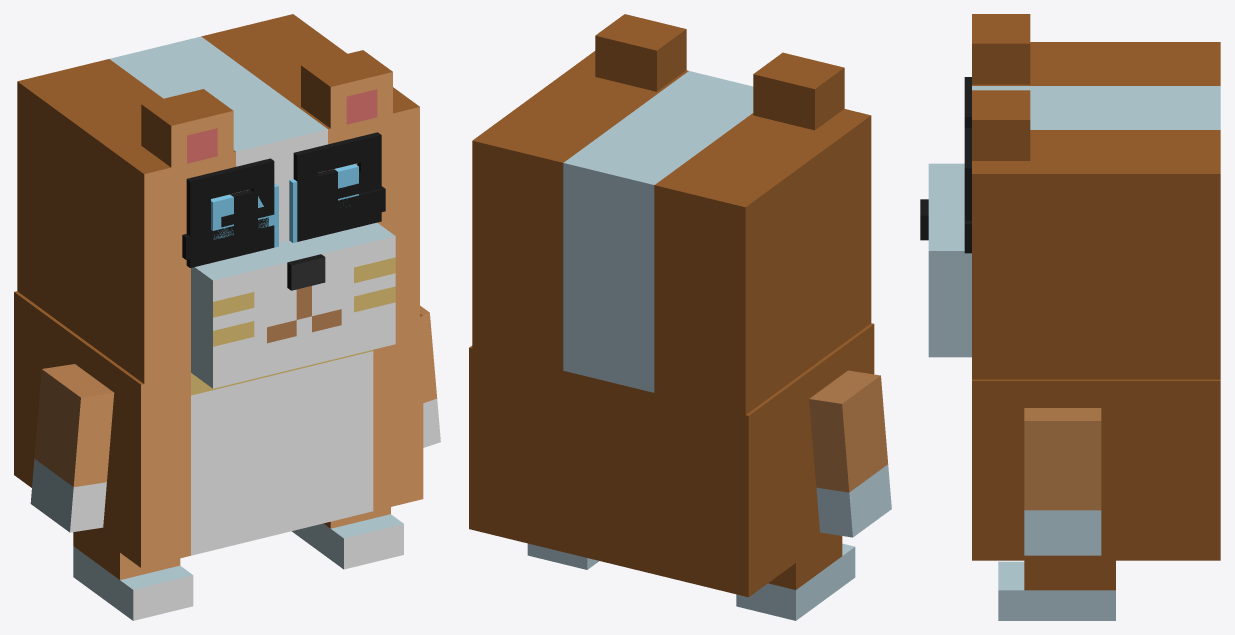
3 renders of one model, left to right at view 1: azimuth 30°, elevation 25°; view 2: azimuth 150°, elevation 25°; view 3: azimuth 270°, elevation 25°, orthographic. The views are drawn at different scales.
Visible parts, largest first — view 1: Ch_35_Head, Ch_35, Ch_35_Hand_L, Ch_35_Leg_L, Ch_35_Eye_03_L, Ch_35_Eye_03_R, Ch_35_Leg_R, Ch_35_Eye_01, Ch_35_Hand_R, Ch_35_Eye_02; view 2: Ch_35_Head, Ch_35, Ch_35_Hand_L, Ch_35_Leg_L, Ch_35_Leg_R; view 3: Ch_35_Head, Ch_35, Ch_35_Hand_R, Ch_35_Leg_R, Ch_35_Eye_03_R.
Part boxes in pixels (left/top/right/bottom): Ch_35_Head: left=17, top=14, right=419, bottom=388; Ch_35: left=14, top=291, right=423, bottom=567; Ch_35_Hand_L: left=30, top=364, right=114, bottom=532; Ch_35_Leg_L: left=73, top=530, right=193, bottom=620; Ch_35_Eye_03_L: left=186, top=158, right=274, bottom=267; Ch_35_Eye_03_R: left=293, top=132, right=381, bottom=241; Ch_35_Leg_R: left=292, top=507, right=403, bottom=569; Ch_35_Eye_01: left=211, top=164, right=358, bottom=247; Ch_35_Hand_R: left=420, top=305, right=440, bottom=447; Ch_35_Eye_02: left=182, top=186, right=385, bottom=259; Ch_35_Head: left=472, top=14, right=871, bottom=414; Ch_35: left=469, top=323, right=874, bottom=597; Ch_35_Hand_L: left=809, top=370, right=891, bottom=537; Ch_35_Leg_L: left=736, top=534, right=855, bottom=620; Ch_35_Leg_R: left=527, top=543, right=598, bottom=569; Ch_35_Head: left=920, top=14, right=1220, bottom=379; Ch_35: left=972, top=379, right=1220, bottom=560; Ch_35_Hand_R: left=1024, top=408, right=1101, bottom=555; Ch_35_Leg_R: left=998, top=560, right=1115, bottom=620; Ch_35_Eye_03_R: left=964, top=128, right=971, bottom=253.
Size of the model in its own units: 7.36 by 9.46 by 5.27.
